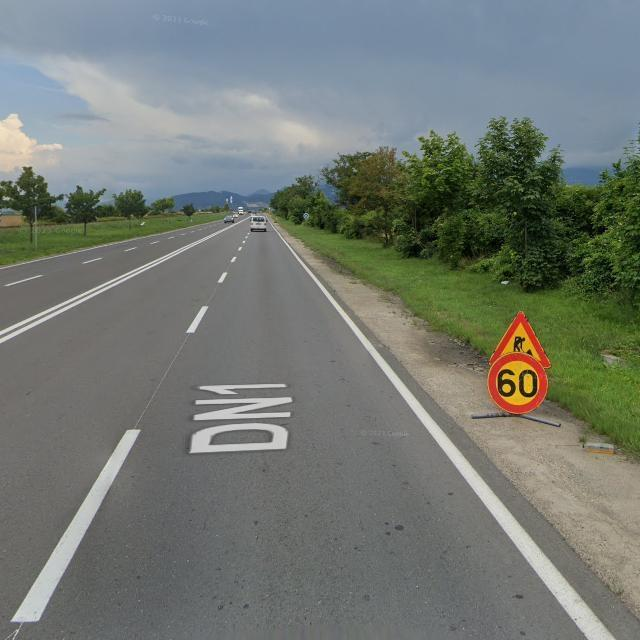forb_speed_over_60: (491, 353, 548, 416)
